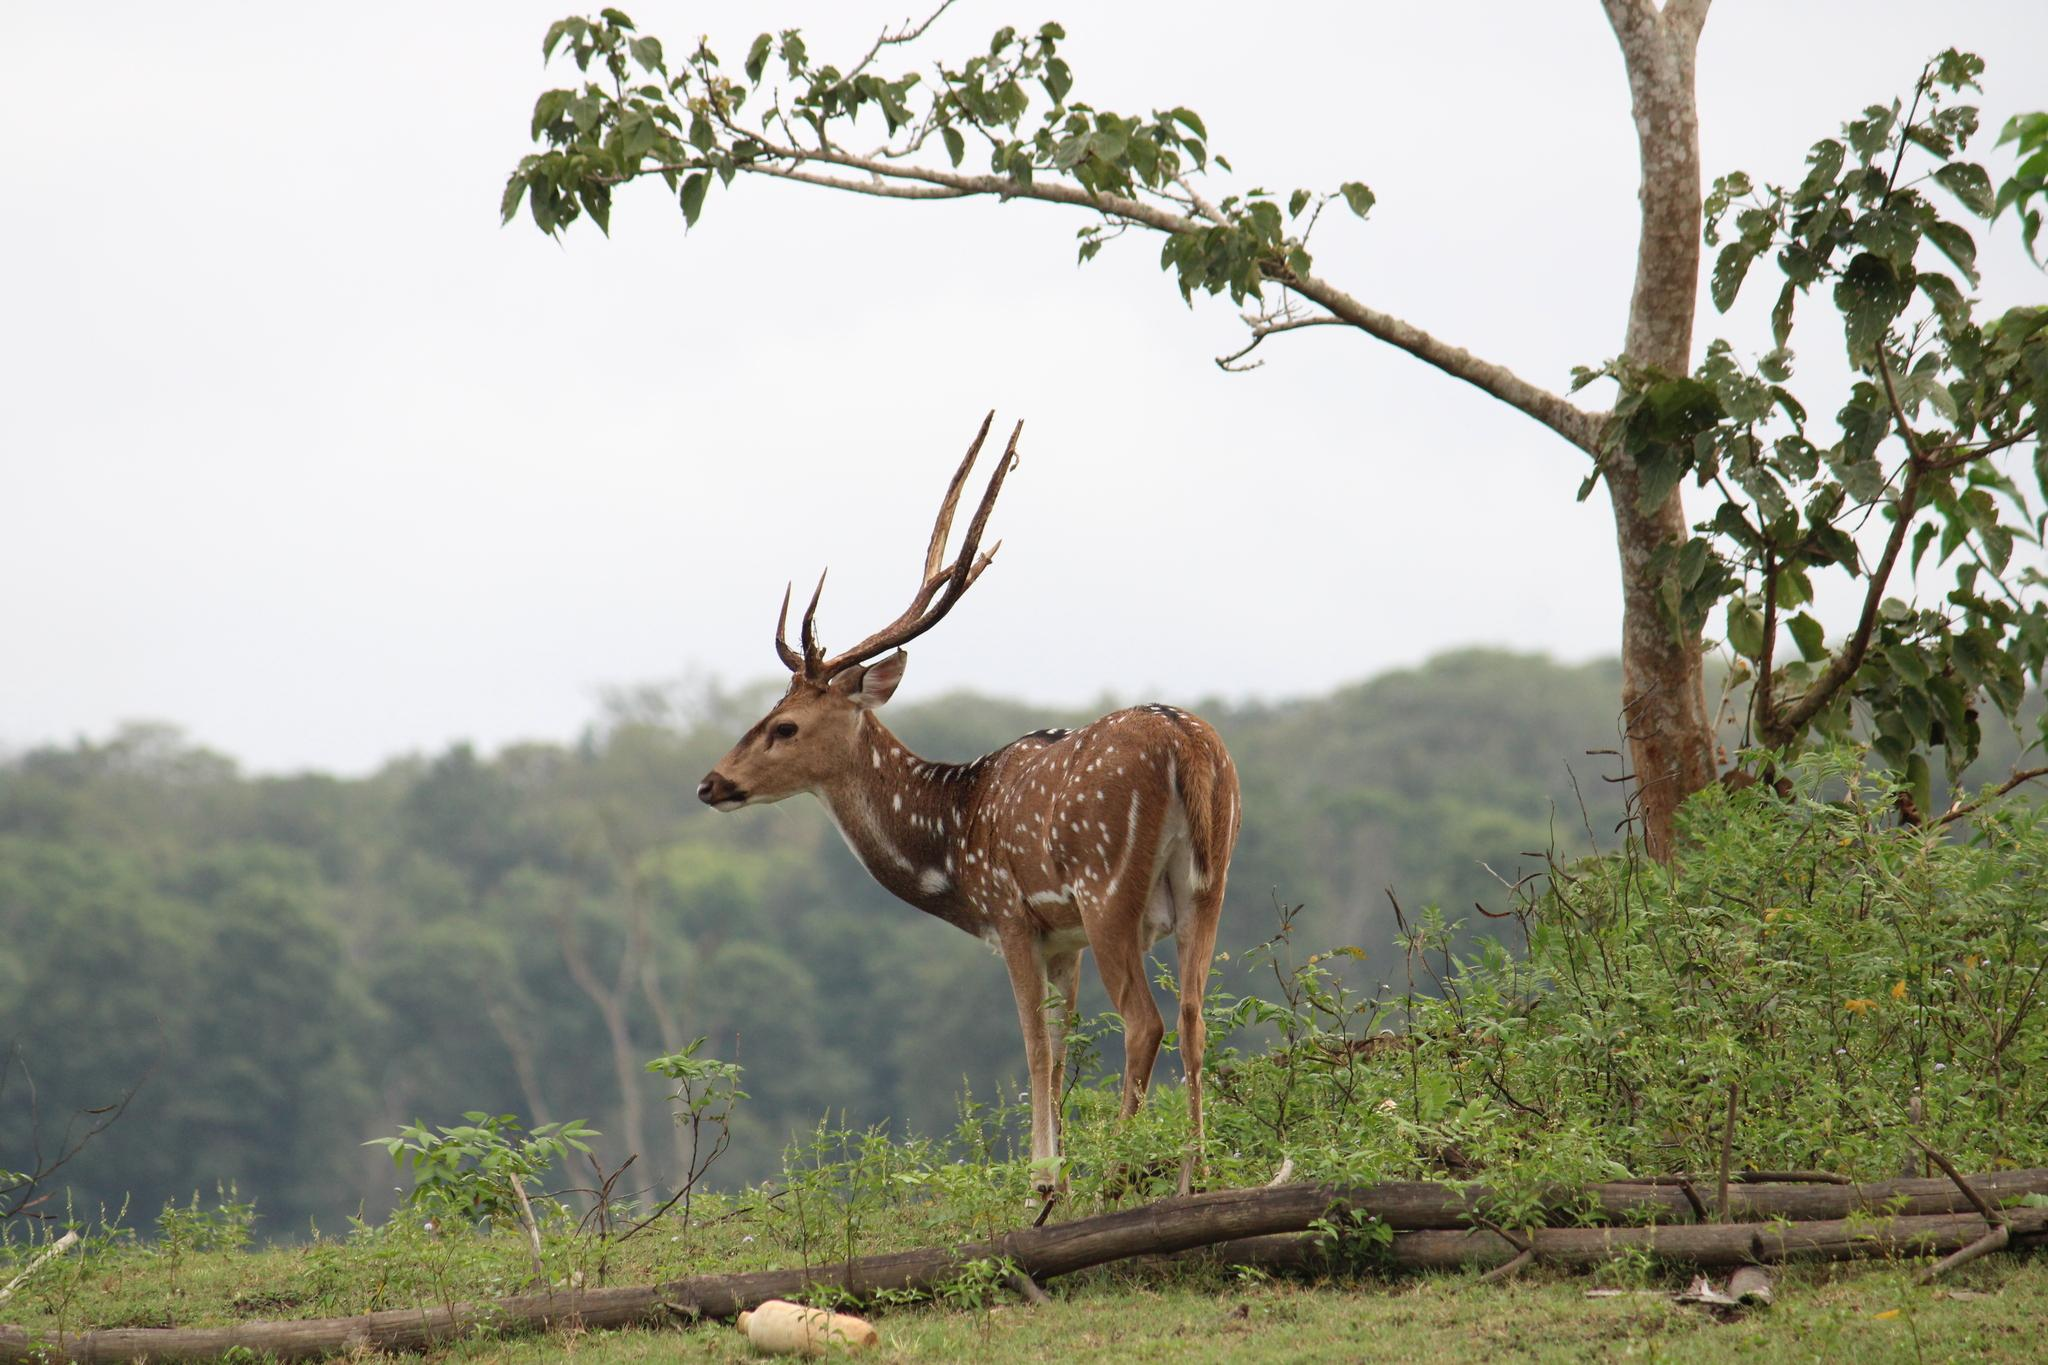Deer: (697, 414, 1239, 1196)
